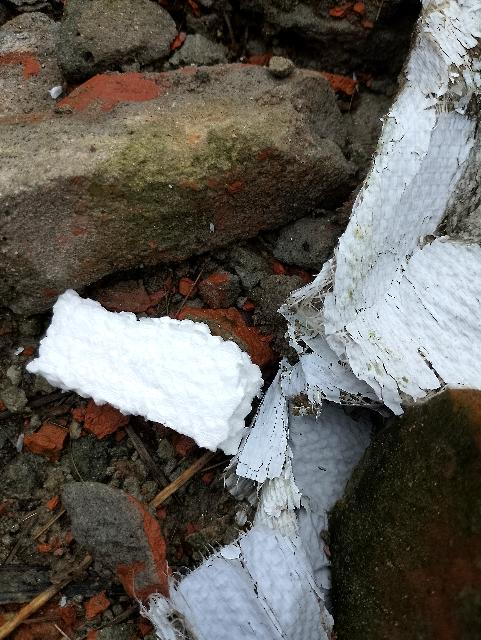cocksheet: (25, 282, 263, 453)
